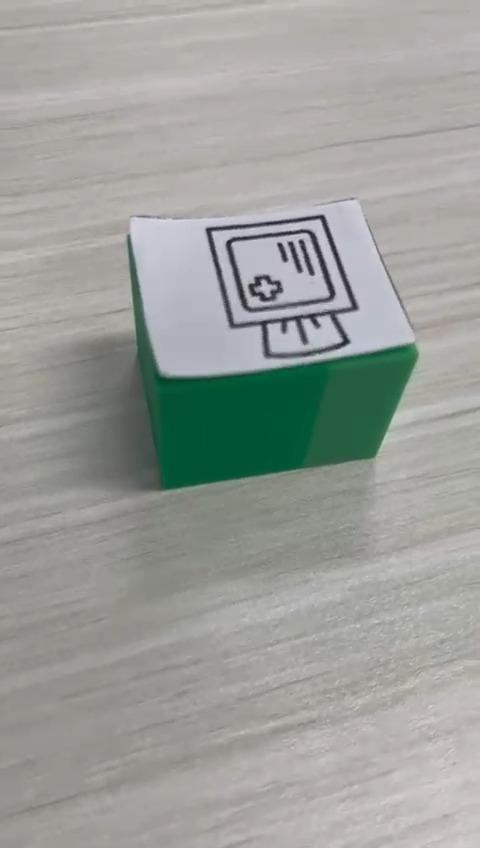Gauze: (125, 194, 419, 490)
